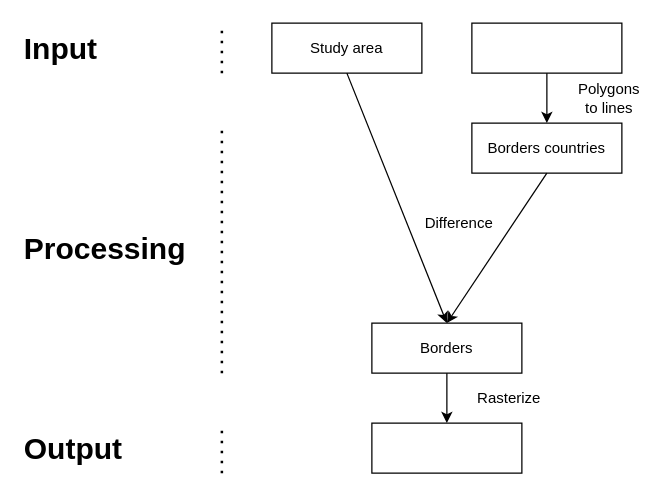
The diagram is 668 pixels wide and 498 high, and some of its shapes have lost their labels. Here are the shapes that lost their labels. From the top down, the centre of each, then its label:
(546,47): Countries
(446,447): Borders raster
